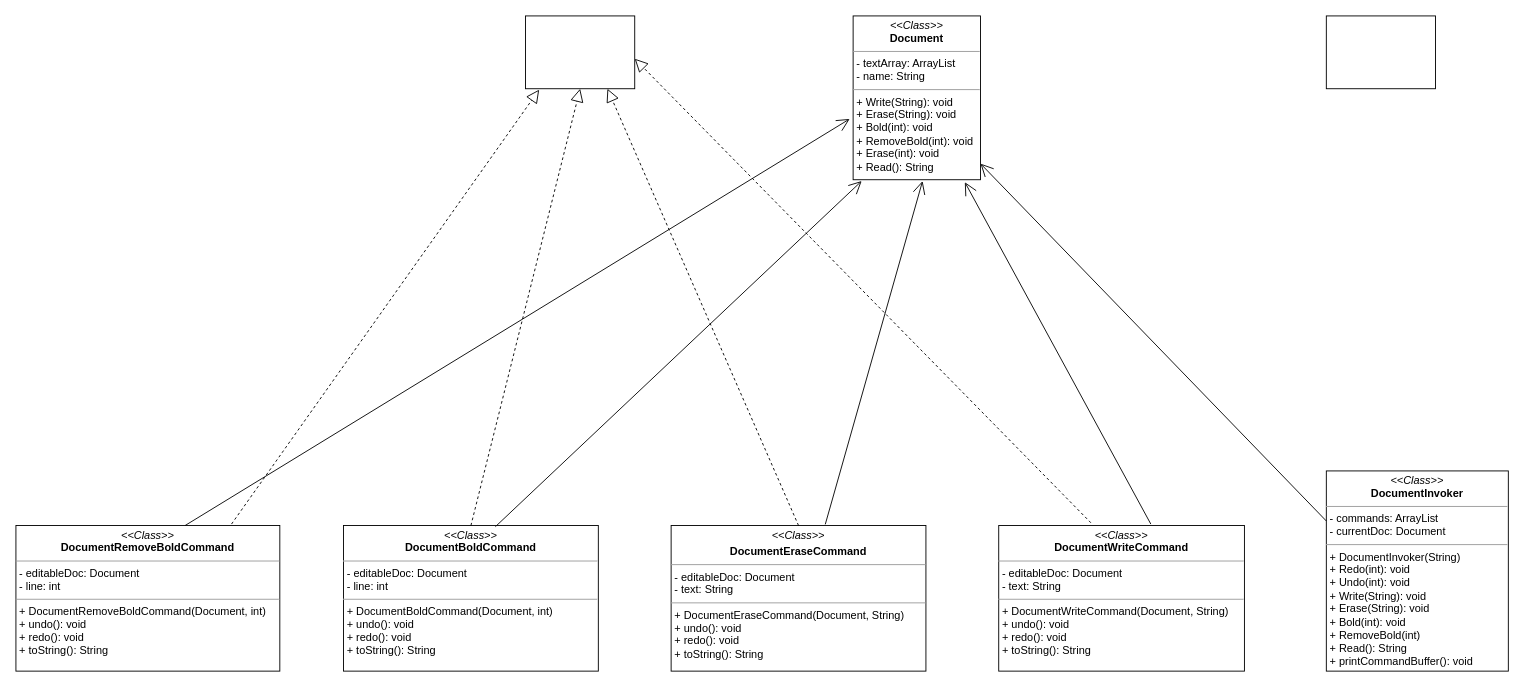
This 1524x694 diagram has some shape labels left out. Each missing label, with the centre of its shape:
"<<Class>> TestEditor + TestEditor() + main(String[]):void" goes at (x=1380, y=52).
"<<Interface>> Command + undo(): void + redo(): void" goes at (x=580, y=52).
